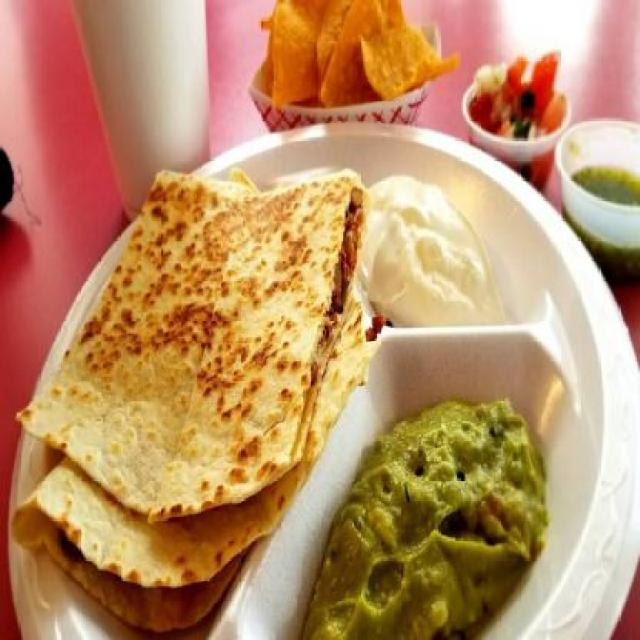chicken quesadilla: (14, 153, 368, 639)
guacamole: (295, 370, 562, 639)
nachos: (243, 1, 462, 116)
